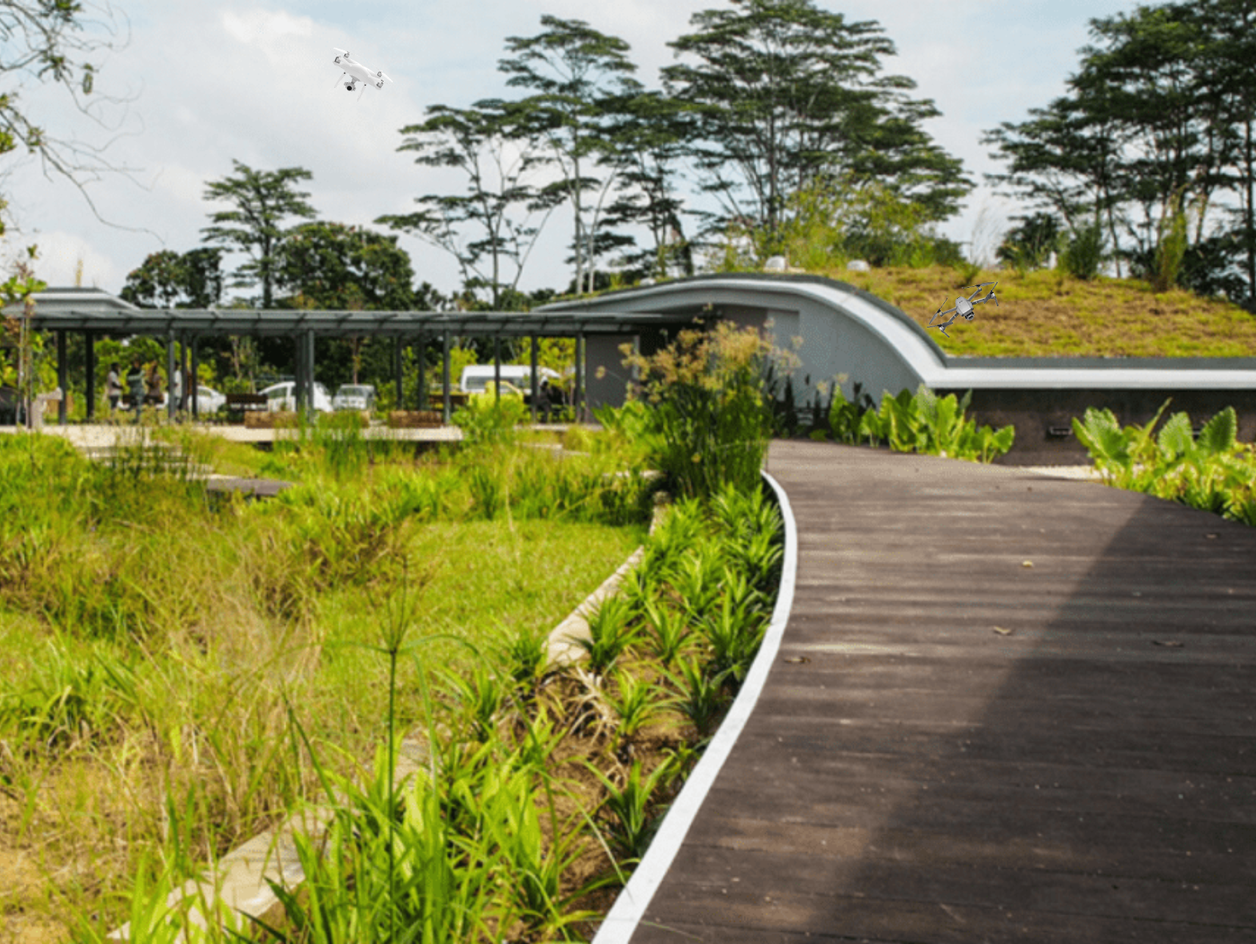drone_other: (924, 278, 1002, 342), (329, 44, 395, 105)
